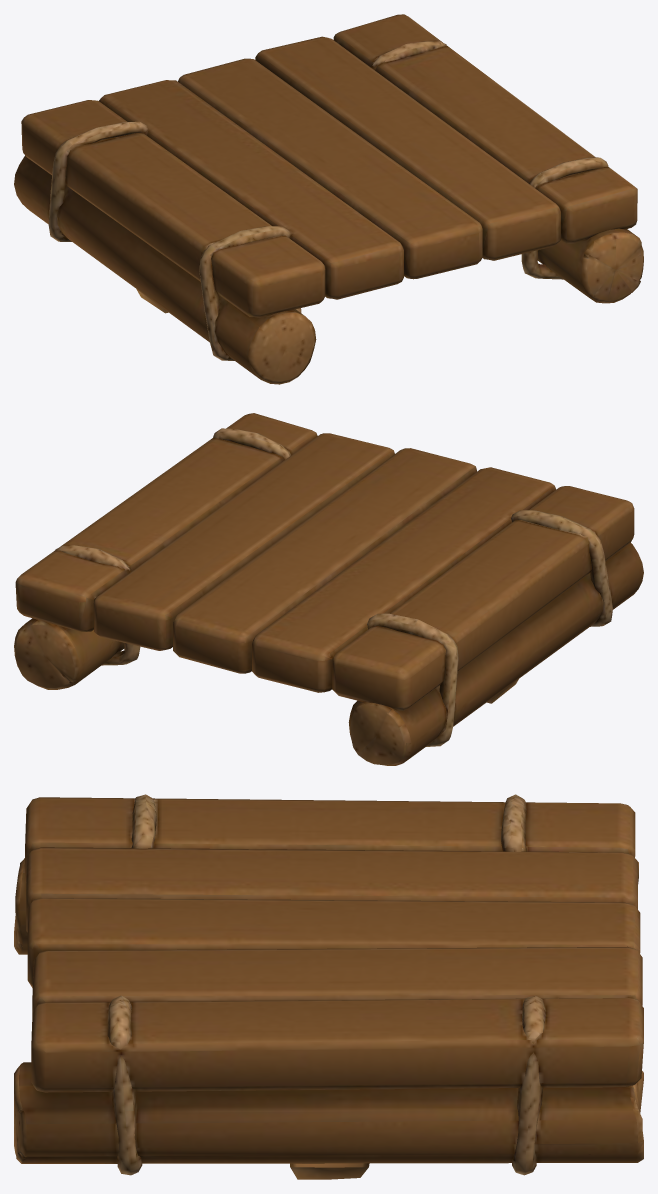
Rendered from raft_v4.glb.
The picture shows the model from 3 angles, top to bottom: view 1: azimuth 30°, elevation 25°; view 2: azimuth 150°, elevation 25°; view 3: azimuth 270°, elevation 25°; orthographic projection. The views are drawn at different scales.
Visible parts, largest first — view 1: tripo_node_977df6cc-4a87-4d0b-892f-9e48b83e9617; view 2: tripo_node_977df6cc-4a87-4d0b-892f-9e48b83e9617; view 3: tripo_node_977df6cc-4a87-4d0b-892f-9e48b83e9617.
Boxes of the visible parts, left/top/right/bottom form: tripo_node_977df6cc-4a87-4d0b-892f-9e48b83e9617: left=14, top=14, right=643, bottom=384; tripo_node_977df6cc-4a87-4d0b-892f-9e48b83e9617: left=14, top=413, right=643, bottom=765; tripo_node_977df6cc-4a87-4d0b-892f-9e48b83e9617: left=14, top=794, right=643, bottom=1179.
Bounding box in the file's own units: 0.9551 × 0.2793 × 0.998.
Materials: 1 (1 with a texture image).
